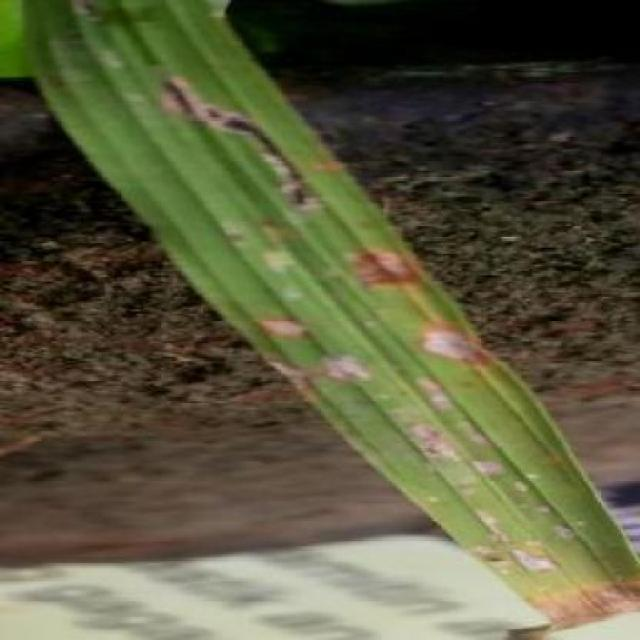Bacterial_Leaf_Blight: (154, 56, 328, 212), (491, 569, 638, 640), (290, 336, 387, 396), (409, 308, 494, 375), (350, 230, 421, 304), (262, 292, 322, 363), (410, 364, 465, 431)
